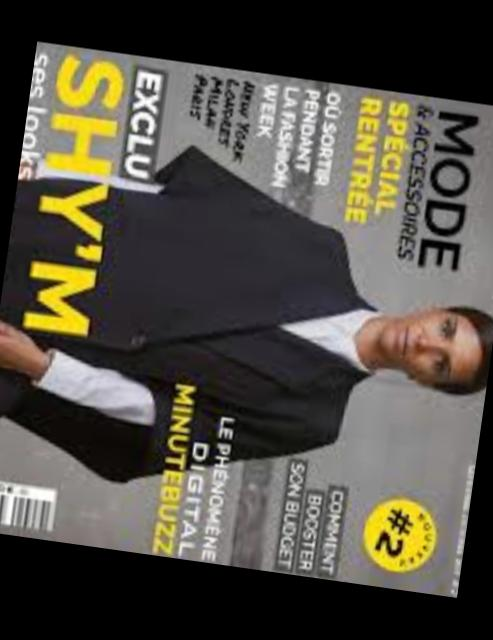cardboard paper: (0, 42, 493, 598)
